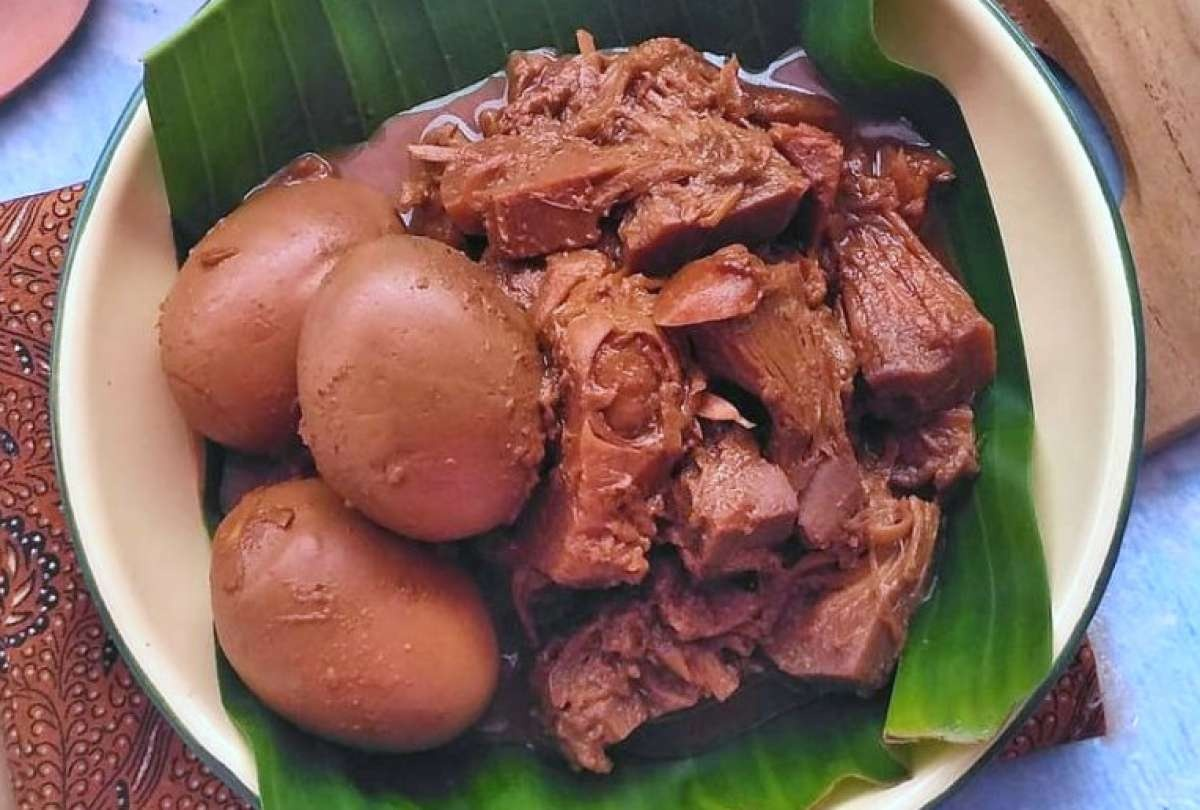gudeg: (147, 92, 993, 736)
